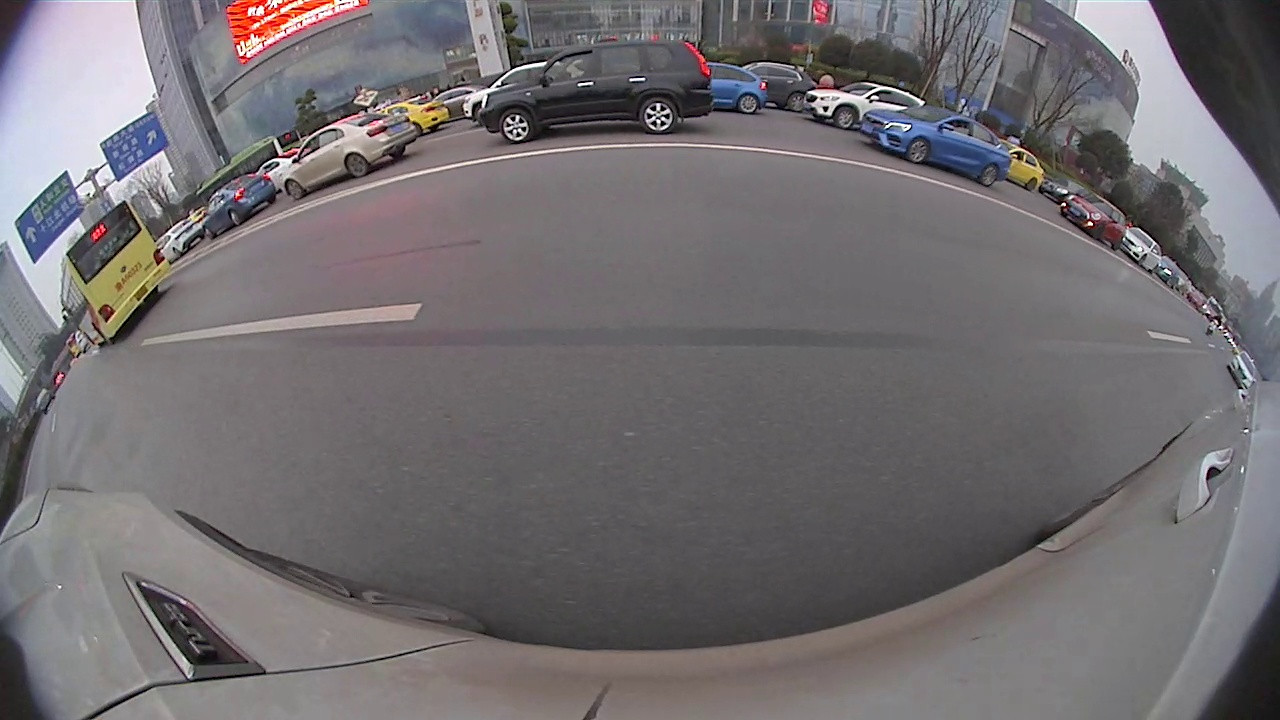bus: (59, 197, 168, 346), (189, 137, 286, 197)
car: (477, 40, 723, 144), (859, 102, 1011, 187), (281, 112, 418, 202), (467, 59, 580, 122), (807, 79, 926, 133), (201, 173, 272, 240), (697, 59, 768, 114), (746, 61, 820, 112), (1062, 193, 1125, 250), (991, 143, 1045, 193), (385, 93, 448, 134), (430, 83, 485, 124)
front: (499, 109, 538, 147), (903, 138, 929, 164), (832, 107, 859, 132), (286, 179, 307, 201), (202, 225, 218, 241)
rear: (638, 95, 682, 139), (342, 152, 371, 181), (734, 90, 763, 117), (784, 89, 813, 115), (93, 322, 117, 351), (976, 163, 1001, 189), (225, 207, 247, 228)
